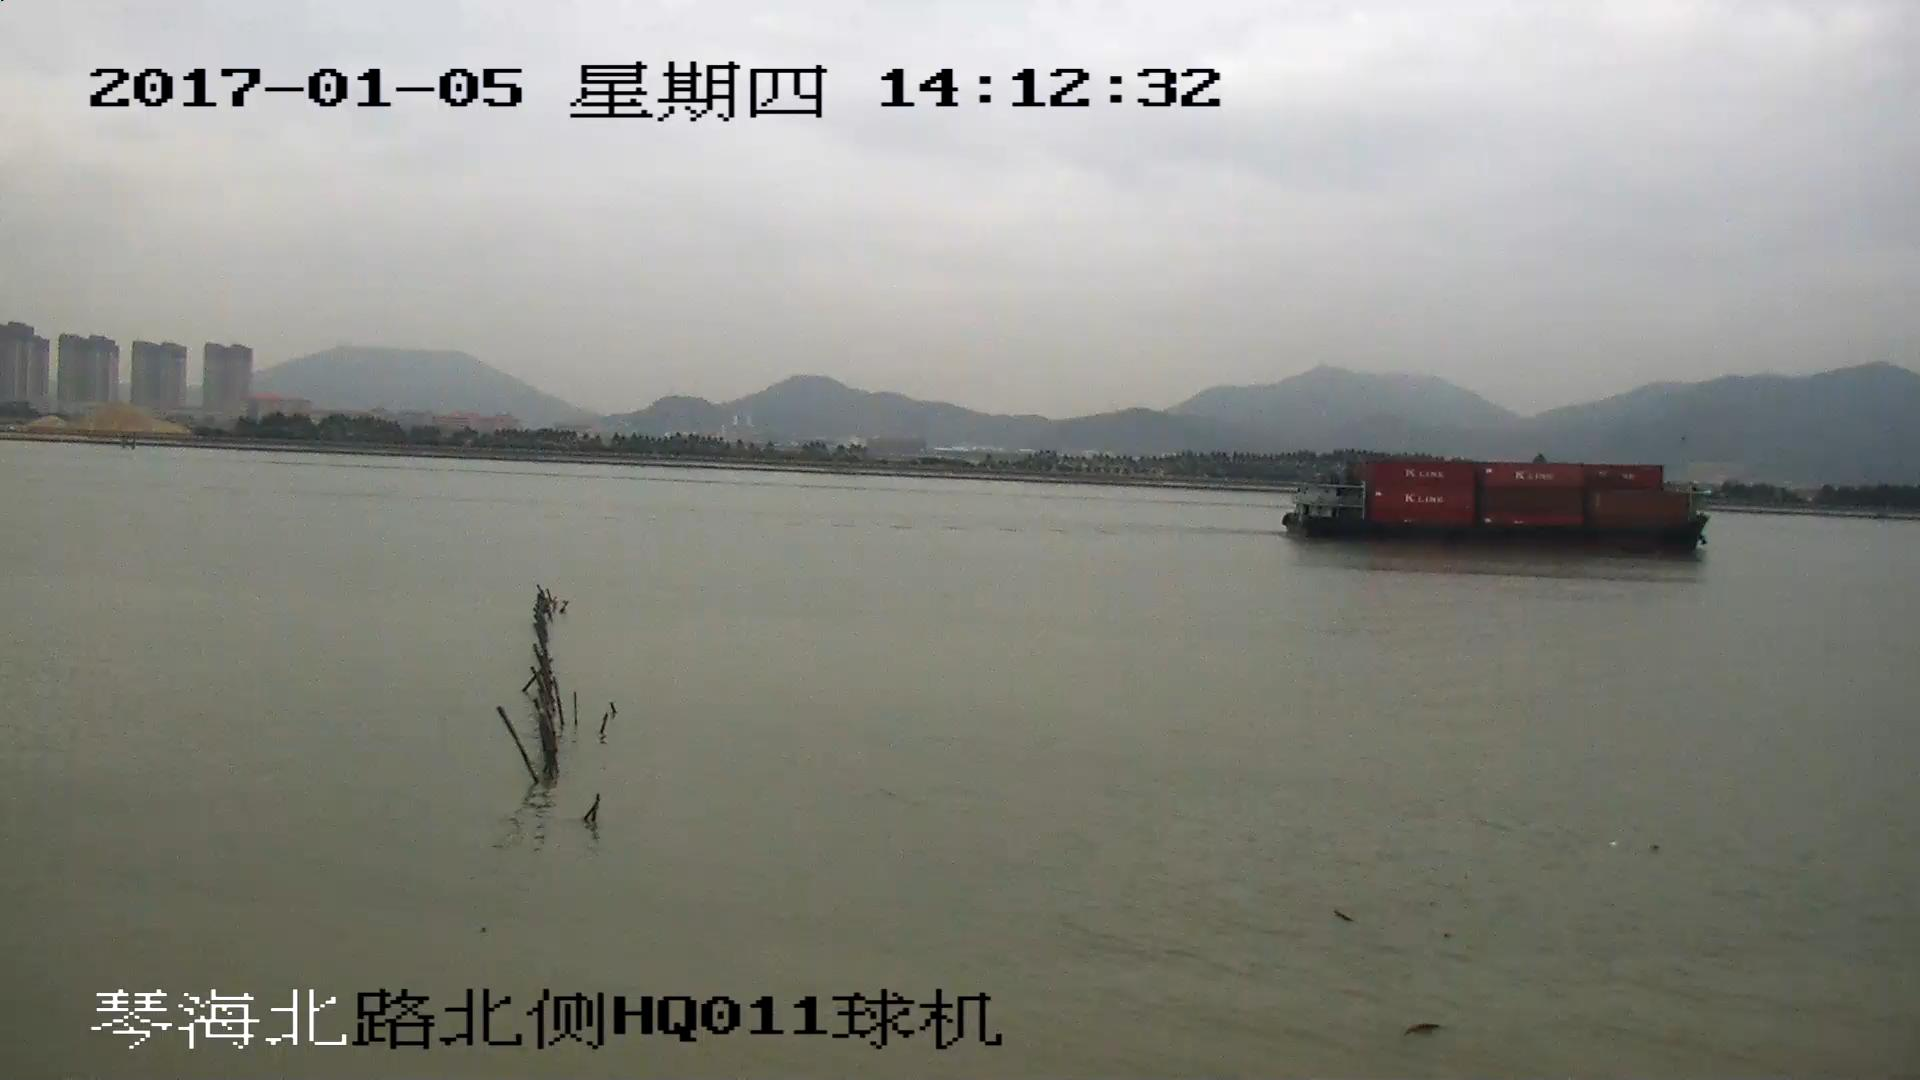container ship: (1283, 453, 1706, 552)
